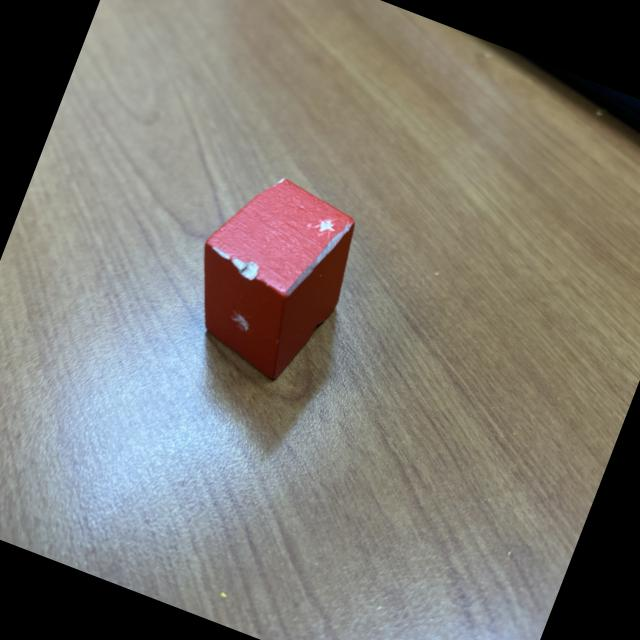broken: (168, 160, 374, 394)
